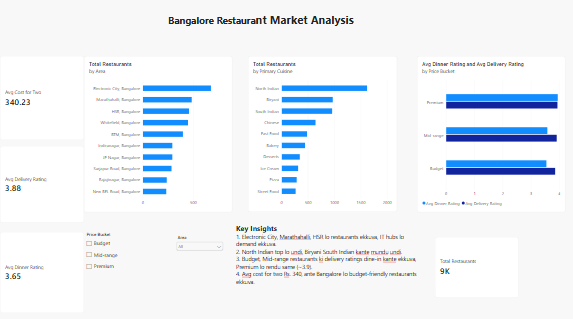

What the dashboard file says about the page in this screenshot:
{"tool":"powerbi","page":{"name":"Page 1","canvas":[1920,1080],"ordinal":0},"visuals":[{"type":"cardVisual","fields":{"Data":["BangaloreZomatoData.Avg Cost for Two"]},"box":[0,182.5,280,280],"z":0},{"type":"cardVisual","fields":{"Data":["BangaloreZomatoData.Avg Delivery Rating"]},"box":[10,480,280,280],"z":1},{"type":"cardVisual","fields":{"Data":["BangaloreZomatoData.Avg Dinner Rating"]},"box":[10,780,280,280],"z":2},{"type":"clusteredBarChart","fields":{"Category":["BangaloreZomatoData.Area"],"Y":["BangaloreZomatoData.Total Restaurants"]},"box":[290.8,202.1,494.5,520.9],"z":3},{"type":"clusteredBarChart","fields":{"Category":["BangaloreZomatoData.Primary Cuisine"],"Y":["BangaloreZomatoData.Total Restaurants"]},"box":[1399.9,759.1,495,320],"z":4},{"type":"clusteredBarChart","fields":{"Category":["BangaloreZomatoData.Price Bucket"],"Y":["BangaloreZomatoData.Avg Dinner Rating","BangaloreZomatoData.Avg Delivery Rating"]},"box":[1399.9,202.1,495,521],"z":5},{"type":"slicer","fields":{"Values":["BangaloreZomatoData.Price Bucket"]},"box":[290.8,788.7,280,210],"z":6},{"type":"slicer","fields":{"Values":["BangaloreZomatoData.Area"]},"box":[594,798.6,165.1,199.6],"z":7},{"type":"textbox","box":[797.5,520,602.5,357.5],"z":8},{"type":"textbox","box":[0,0,280,280],"z":9}]}

Visuals, with their boxes in screenshot pixels (x1, y1, x2, y2), scaled from the page's 1920x1080 canvas onto the 573x319 screenshot:
cardVisual - BangaloreZomatoData.Avg Cost for Two: region(0, 54, 84, 137)
cardVisual - BangaloreZomatoData.Avg Delivery Rating: region(3, 142, 87, 224)
cardVisual - BangaloreZomatoData.Avg Dinner Rating: region(3, 230, 87, 313)
clusteredBarChart - BangaloreZomatoData.Area x BangaloreZomatoData.Total Restaurants: region(87, 60, 234, 214)
clusteredBarChart - BangaloreZomatoData.Primary Cuisine x BangaloreZomatoData.Total Restaurants: region(418, 224, 566, 318)
clusteredBarChart - BangaloreZomatoData.Price Bucket x BangaloreZomatoData.Avg Dinner Rating: region(418, 60, 566, 214)
slicer - BangaloreZomatoData.Price Bucket: region(87, 233, 170, 295)
slicer - BangaloreZomatoData.Area: region(177, 236, 227, 295)
textbox: region(238, 154, 418, 259)
textbox: region(0, 0, 84, 83)
